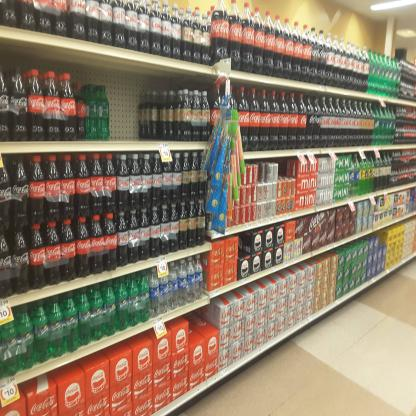Void: (108, 86, 138, 140), (182, 313, 221, 332), (276, 160, 294, 176), (239, 236, 253, 256)
